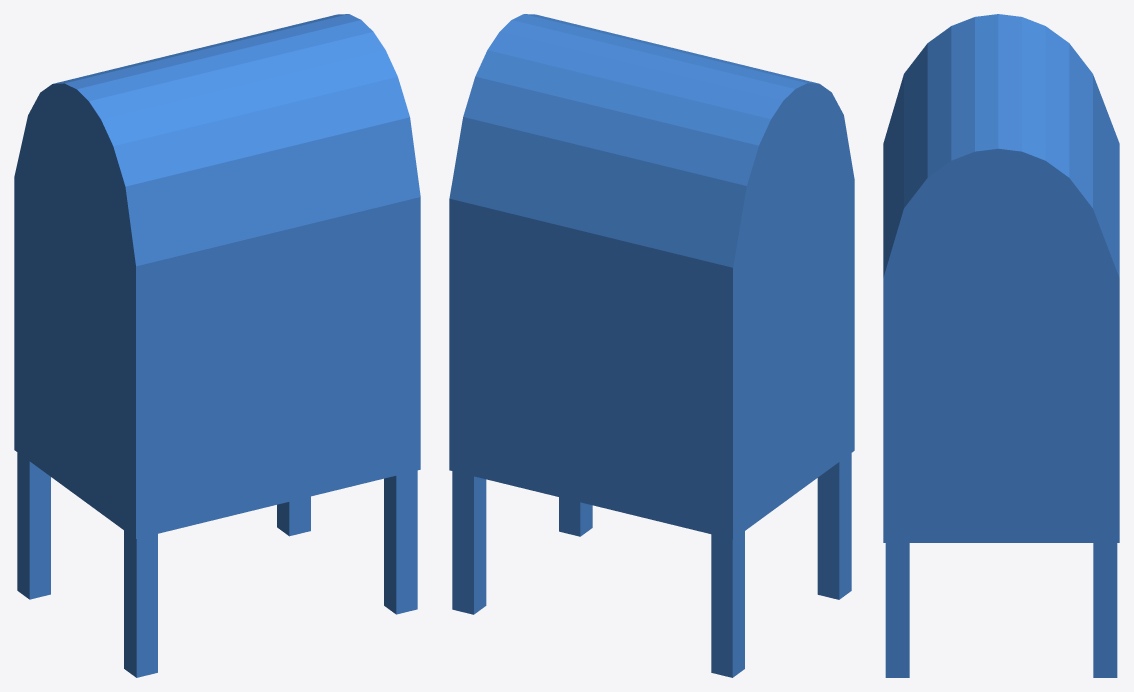
Rendered from Mail.fbx.
The picture shows the model from 3 angles, left to right: view 1: azimuth 30°, elevation 25°; view 2: azimuth 150°, elevation 25°; view 3: azimuth 270°, elevation 25°; orthographic projection. The views are drawn at different scales.
Visible parts, largest first — view 1: Cube.002, Cube.003; view 2: Cube.002, Cube.003; view 3: Cube.002, Cube.003.
Part boxes in pixels (x1,y1,x2,y2): Cube.002: (14,14,420,538); Cube.003: (17,452,417,677); Cube.002: (449,14,854,539); Cube.003: (452,453,851,677); Cube.002: (883,14,1119,542); Cube.003: (885,543,1117,677).
Size of the model in its own units: 124 by 227 by 91.8.
